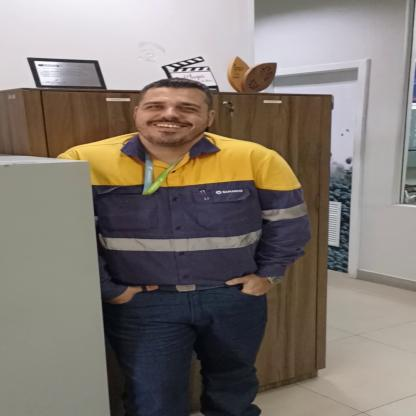Operacional: (42, 128, 320, 303)
